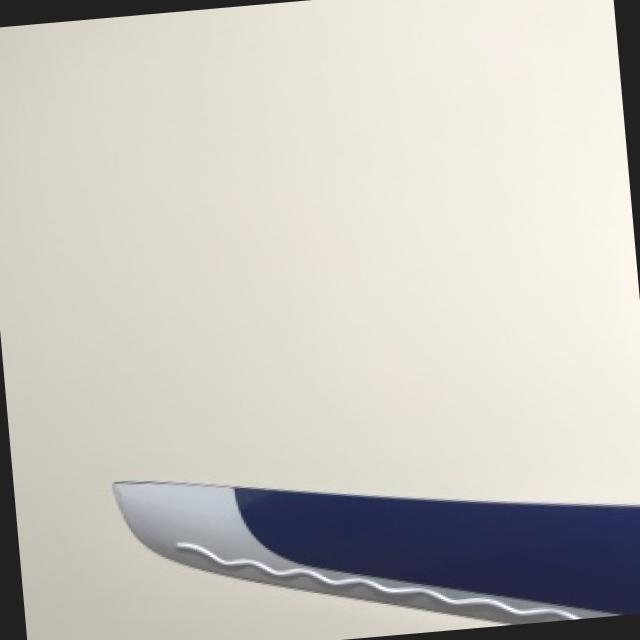healthy: (111, 482, 640, 622)
